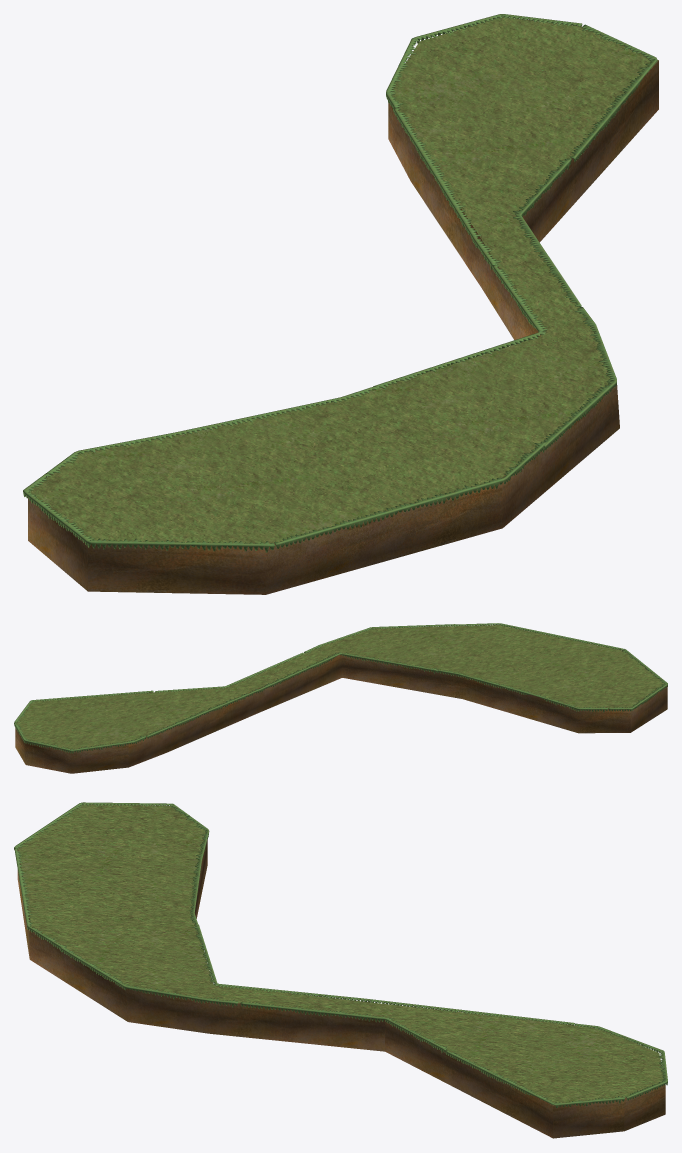
File: One_level_02.FBX
3 views of the same model, one above another, from view 1: azimuth 30°, elevation 25°; view 2: azimuth 150°, elevation 25°; view 3: azimuth 270°, elevation 25° (orthographic). The views are drawn at different scales.
Parts seen in each view (by area): view 1: Box004, Box012, Box005, Box008, Box007, Box006, Box010, Box013, Box011, Box009; view 2: Box004, Box006, Box007, Box008, Box009, Box005, Box012, Box011, Box013, Box010; view 3: Box004, Box011, Box013, Box010, Box008, Box009, Box012, Box007, Box005, Box006.
Part boxes in pixels (x1,y1,x2,y2): Box004: (28, 17, 658, 594); Box012: (274, 441, 547, 548); Box005: (23, 473, 274, 552); Box008: (393, 107, 500, 269); Box007: (373, 264, 547, 388); Box006: (47, 386, 377, 474); Box010: (570, 24, 657, 162); Box013: (543, 307, 616, 450); Box011: (512, 158, 581, 307); Box009: (386, 14, 582, 111); Box004: (15, 625, 667, 773); Box006: (437, 669, 607, 712); Box007: (282, 652, 438, 681); Box008: (146, 678, 283, 738); Box009: (14, 722, 146, 753); Box005: (608, 649, 667, 711); Box012: (451, 623, 623, 650); Box011: (155, 652, 303, 693); Box013: (304, 624, 455, 652); Box010: (14, 690, 153, 722); Box004: (17, 804, 665, 1138); Box011: (240, 1001, 447, 1052); Box013: (59, 946, 237, 1007); Box010: (445, 1050, 624, 1107); Box008: (325, 994, 574, 1025); Box009: (575, 1023, 667, 1100); Box012: (14, 848, 66, 952); Box007: (192, 924, 325, 996); Box005: (14, 802, 189, 849); Box006: (186, 815, 209, 925).
Size of the model in its own units: 22.27 by 1.17 by 20.38.
